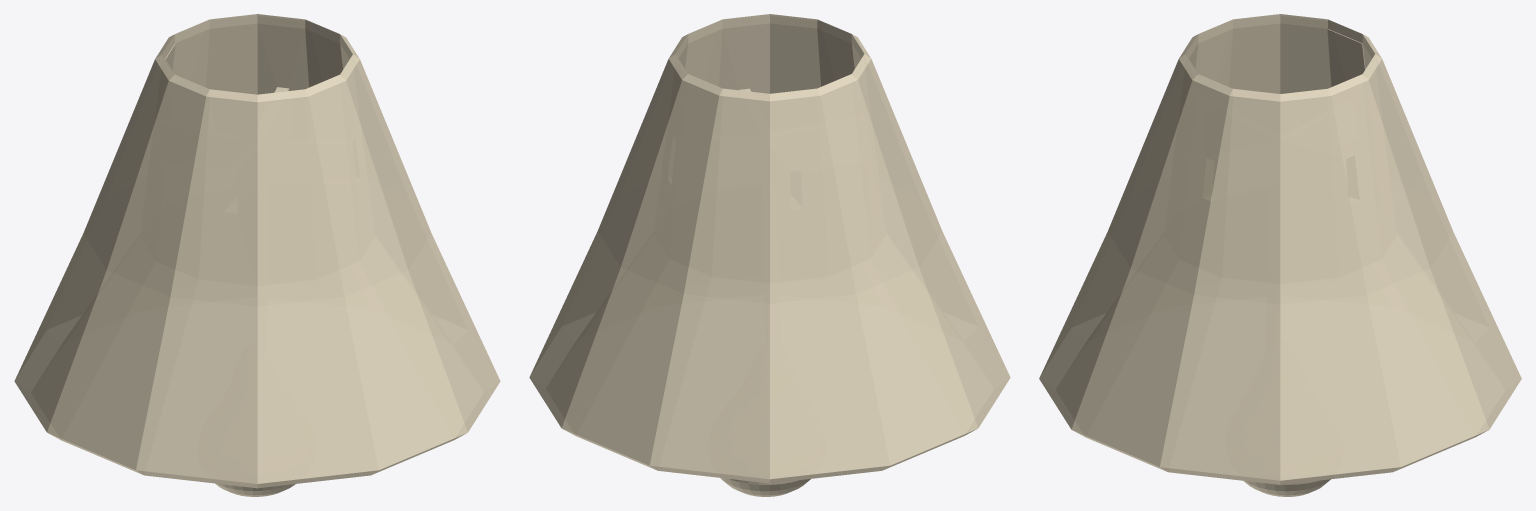
File: lamp.fbx
3 views of the same model, side by side, from view 1: azimuth 30°, elevation 25°; view 2: azimuth 150°, elevation 25°; view 3: azimuth 270°, elevation 25° (orthographic).
Visible parts, largest first — view 1: Lamp; view 2: Lamp; view 3: Lamp.
Boxes of the visible parts, bbox=[...] form: Lamp: bbox=[14, 14, 500, 496]; Lamp: bbox=[529, 14, 1010, 496]; Lamp: bbox=[1039, 14, 1521, 496].
Bounding box in the file's own units: 175 × 174 × 175.
